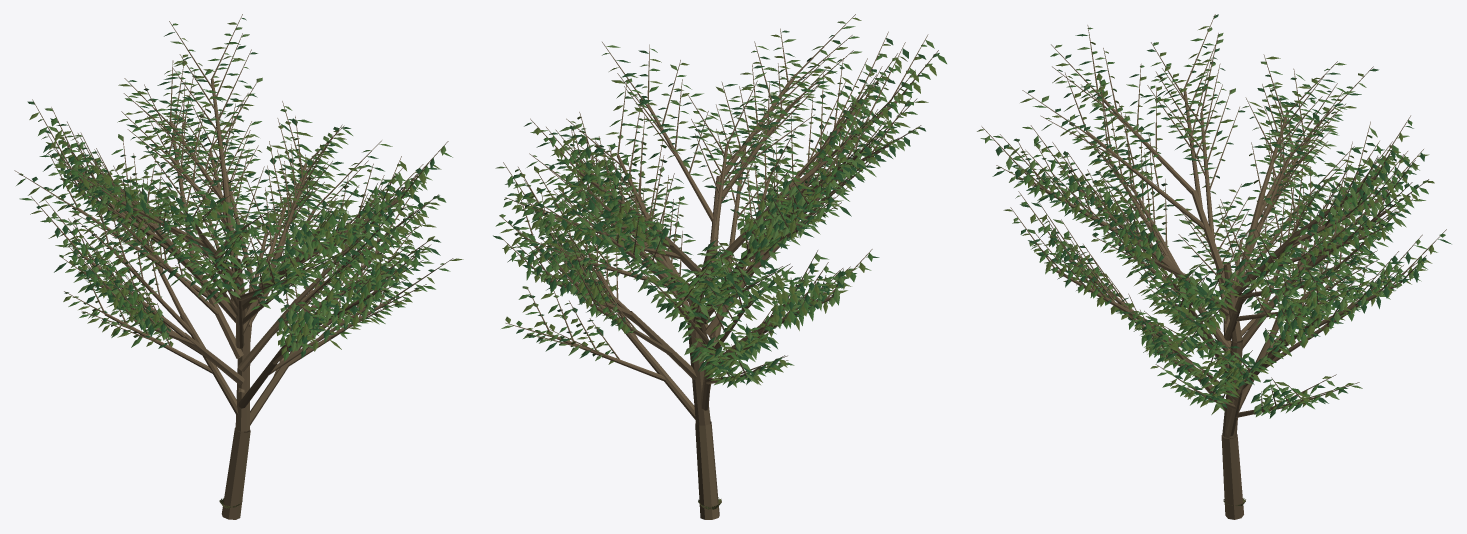
File: courtyard-planting.glb
3 views of the same model, side by side, from view 1: azimuth 30°, elevation 25°; view 2: azimuth 150°, elevation 25°; view 3: azimuth 270°, elevation 25° (orthographic). The views are drawn at different scales.
Visible parts, largest first — view 1: Courtyard citrus · Citrus · bark, Courtyard citrus · Citrus leaf 3, Courtyard citrus · Citrus leaf 2, Courtyard citrus · Citrus leaf 1, Courtyard citrus · Citrus leaf 0; view 2: Courtyard citrus · Citrus · bark, Courtyard citrus · Citrus leaf 2, Courtyard citrus · Citrus leaf 3, Courtyard citrus · Citrus leaf 1, Courtyard citrus · Citrus leaf 0; view 3: Courtyard citrus · Citrus · bark, Courtyard citrus · Citrus leaf 0, Courtyard citrus · Citrus leaf 2, Courtyard citrus · Citrus leaf 3, Courtyard citrus · Citrus leaf 1.
Part boxes in pixels (box(x1,y1,x2,y2)): Courtyard citrus · Citrus · bark: box(14, 14, 453, 519); Courtyard citrus · Citrus leaf 3: box(28, 22, 463, 354); Courtyard citrus · Citrus leaf 2: box(19, 27, 446, 352); Courtyard citrus · Citrus leaf 1: box(16, 23, 452, 361); Courtyard citrus · Citrus leaf 0: box(27, 18, 440, 358); Courtyard citrus · Citrus · bark: box(499, 14, 938, 519); Courtyard citrus · Citrus leaf 2: box(495, 21, 934, 387); Courtyard citrus · Citrus leaf 3: box(500, 17, 936, 384); Courtyard citrus · Citrus leaf 1: box(495, 26, 946, 384); Courtyard citrus · Citrus leaf 0: box(493, 30, 939, 387); Courtyard citrus · Citrus · bark: box(981, 14, 1446, 519); Courtyard citrus · Citrus leaf 0: box(992, 14, 1451, 418); Courtyard citrus · Citrus leaf 2: box(985, 27, 1437, 416); Courtyard citrus · Citrus leaf 3: box(977, 26, 1434, 414); Courtyard citrus · Citrus leaf 1: box(980, 27, 1445, 415).
Size of the model in its own units: 3.47 by 3.6 by 3.68.
